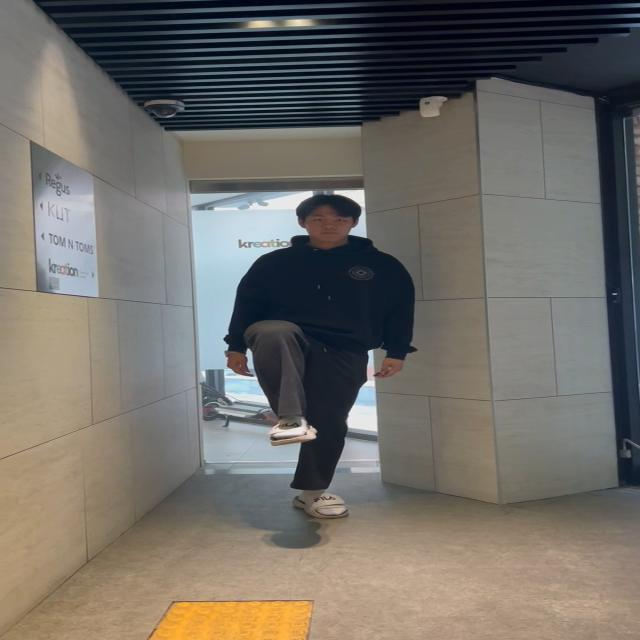knee: (225, 320, 325, 456)
